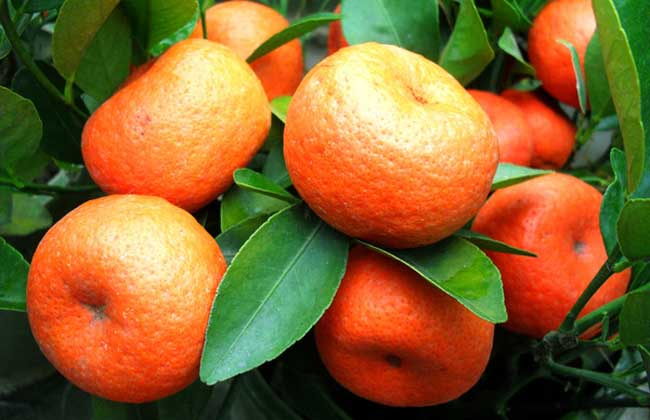orange: (282, 43, 498, 246), (26, 193, 232, 403), (80, 38, 272, 209), (312, 236, 493, 407), (469, 172, 630, 339), (187, 1, 304, 104), (530, 1, 614, 108), (444, 89, 536, 180), (495, 85, 581, 171)
